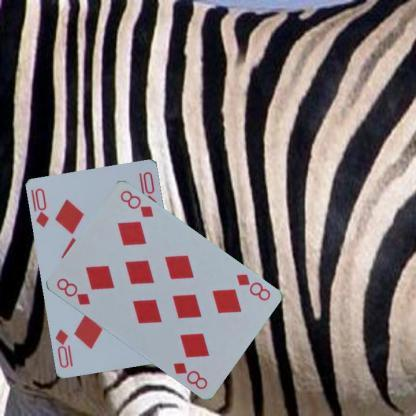10d: (32, 186, 51, 229)
8d: (232, 271, 272, 302), (53, 276, 91, 308)
